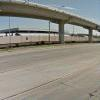Bridge: (9, 0, 95, 42)
